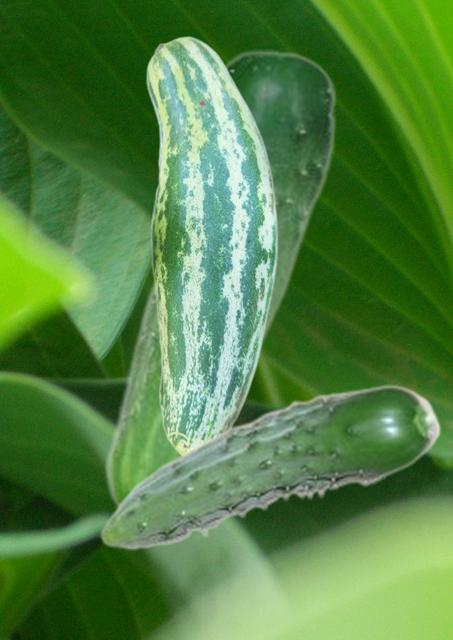cucumber: (102, 49, 337, 507), (99, 384, 441, 549), (145, 35, 277, 454)
